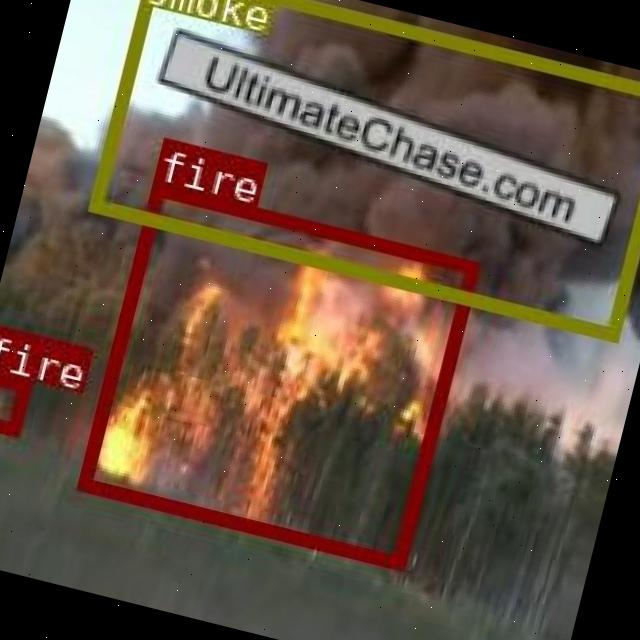fire: (77, 180, 478, 566), (0, 366, 31, 433)
smoke: (87, 0, 640, 338)
